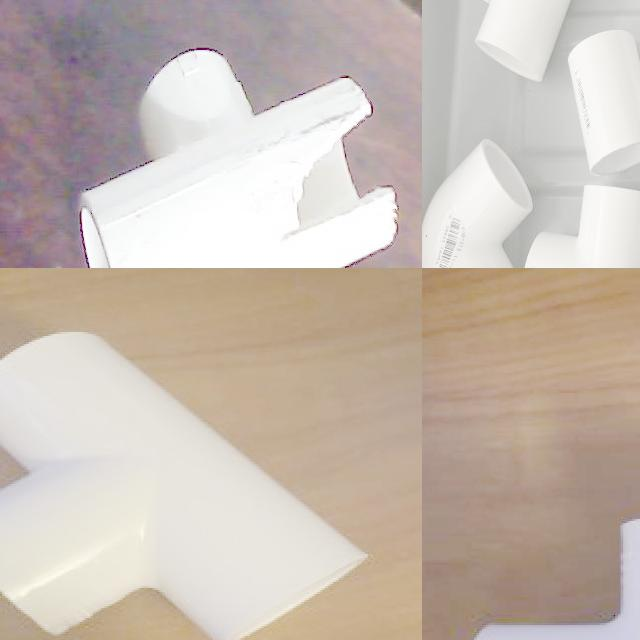Defective: (280, 101, 396, 238)
L Joint: (422, 139, 534, 268), (525, 185, 640, 268)
T Joint: (0, 331, 368, 640), (80, 49, 398, 268), (474, 0, 573, 84)
